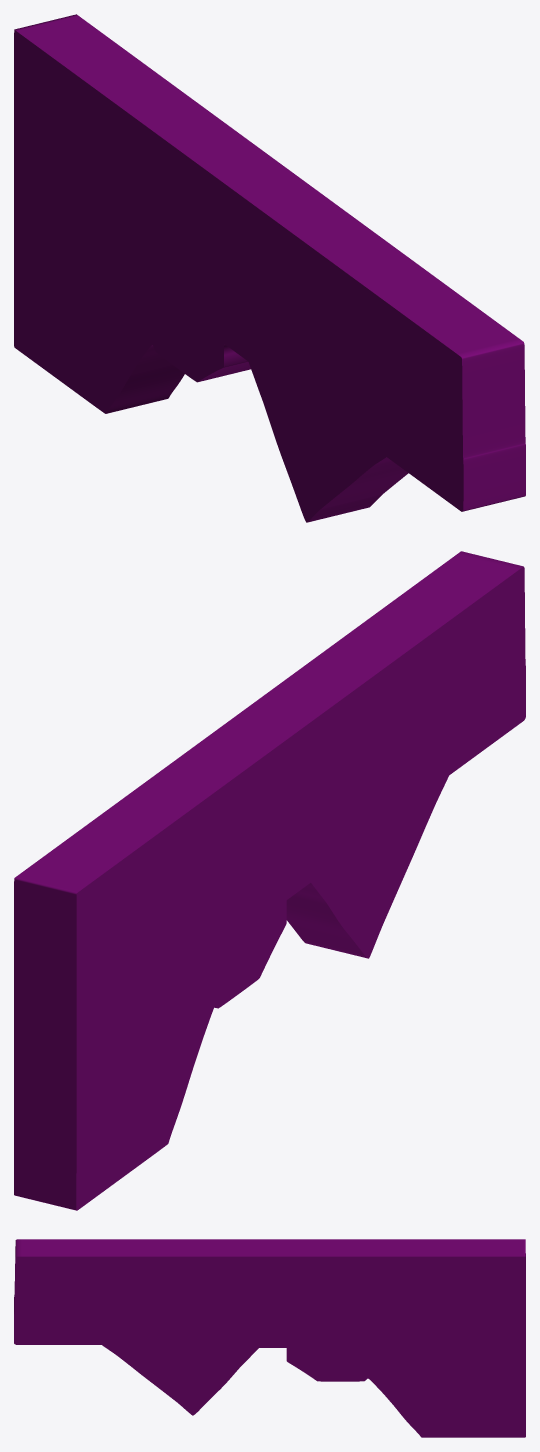
File: tu_peut_pas_test_se_sol.fbx
3 views of the same model, one above another, from view 1: azimuth 30°, elevation 25°; view 2: azimuth 150°, elevation 25°; view 3: azimuth 270°, elevation 25° (orthographic). The views are drawn at different scales.
Visible parts, largest first — view 1: path1; view 2: path1; view 3: path1.
Part boxes in pixels (x1,y1,x2,y2): path1: [14, 14, 525, 522]; path1: [14, 551, 525, 1210]; path1: [14, 1239, 525, 1437].
Bounding box in the file's own units: 10.07 × 48.95 × 125.
